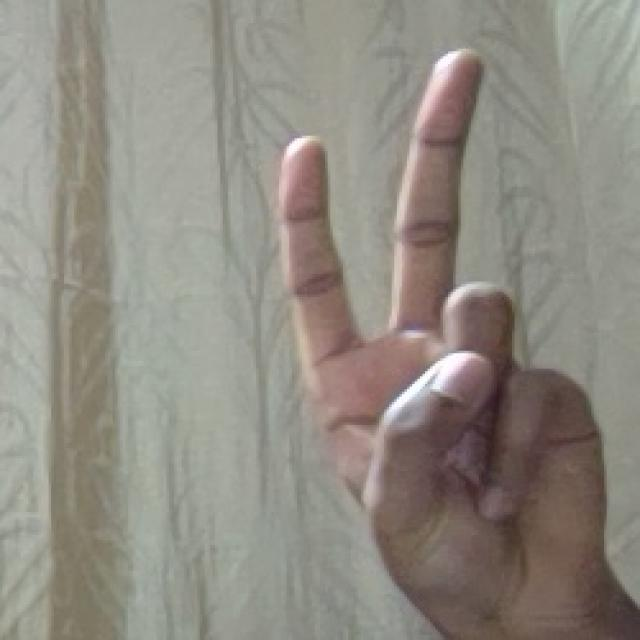Numeric-2: (276, 46, 614, 601)
